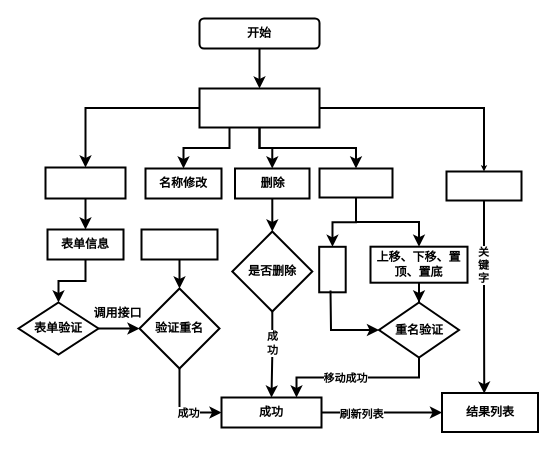
This 556x450 diagram has some shape labels left out. Here are the shapes that lost their labels. From the top down, the centre of each, then its label:
At point 259,107: "目录管理".
At point 85,182: "新增".
At point 355,182: "移动".
At point 483,185: "查询".
At point 179,244: "修改目录".
At point 332,269: "移动到".
